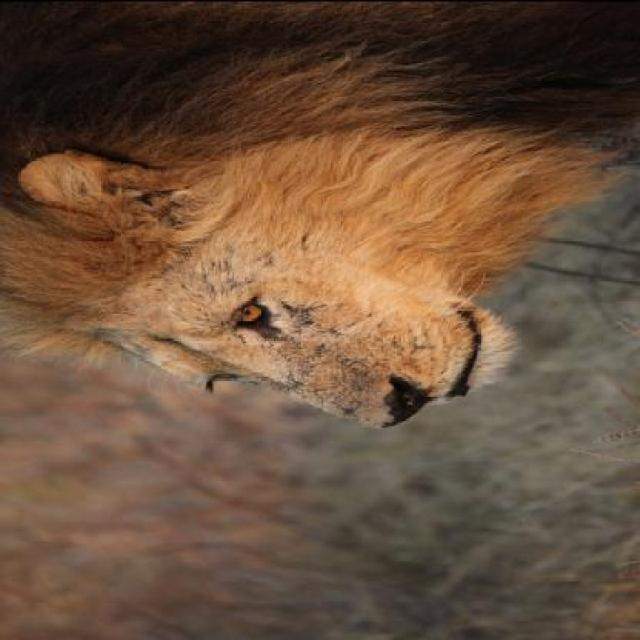Lion: (12, 2, 638, 436)
